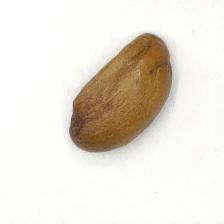NG: (67, 100, 91, 148)
